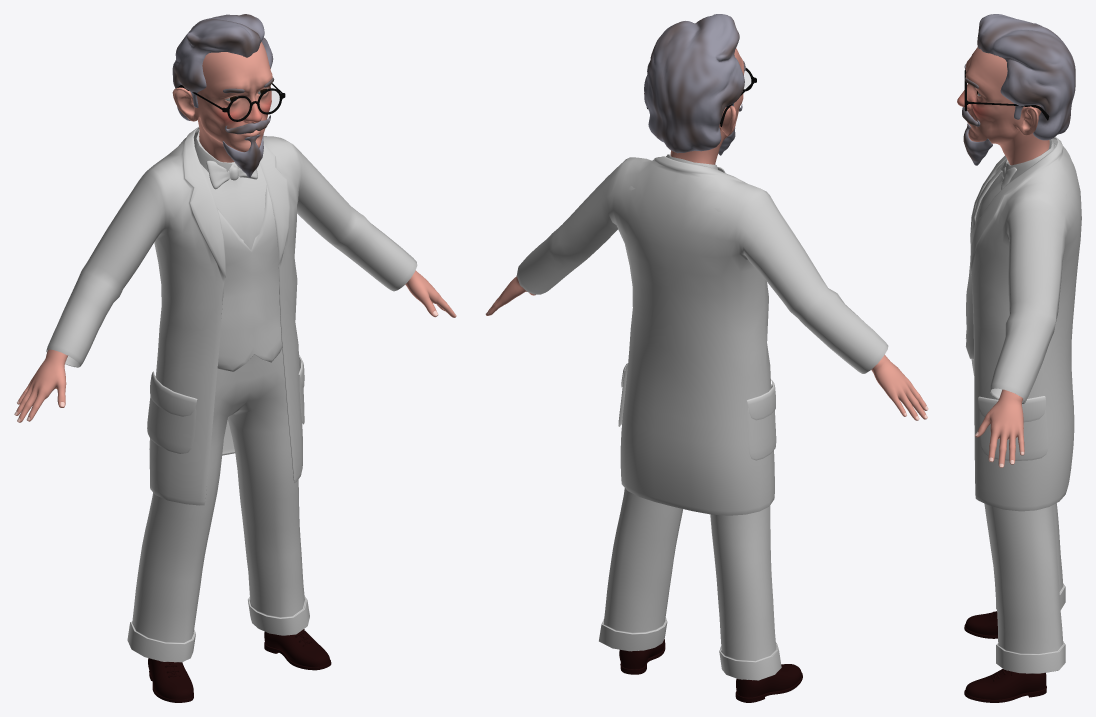
The model's file is professor.gltf.
The picture shows the model from 3 angles, left to right: view 1: azimuth 30°, elevation 25°; view 2: azimuth 150°, elevation 25°; view 3: azimuth 270°, elevation 25°; orthographic projection.
Visible parts, largest first — view 1: Coat_geo, Pant_geo, Body_geo, Waistcoat_geo, Hair_geo, Shoes_geo, Shirt_geo, beard_geo; view 2: Coat_geo, Pant_geo, Hair_geo, Body_geo, Shoes_geo; view 3: Coat_geo, Pant_geo, Body_geo, Hair_geo, Shoes_geo, Waistcoat_geo, Shirt_geo, beard_geo, Specs_frame_geo, Bowtie_geo.
Part boxes in pixels (<box>): Coat_geo: <box>46,127,417,505</box>; Pant_geo: <box>127,348,309,662</box>; Body_geo: <box>14,42,456,422</box>; Waistcoat_geo: <box>217,184,282,371</box>; Hair_geo: <box>172,14,273,120</box>; Shoes_geo: <box>148,629,331,702</box>; Shirt_geo: <box>194,129,266,249</box>; beard_geo: <box>222,115,270,177</box>; Coat_geo: <box>516,156,888,515</box>; Pant_geo: <box>599,488,781,680</box>; Hair_geo: <box>644,14,744,153</box>; Body_geo: <box>485,48,928,420</box>; Shoes_geo: <box>619,639,802,702</box>; Coat_geo: <box>970,137,1081,511</box>; Pant_geo: <box>971,359,1065,673</box>; Body_geo: <box>957,47,1049,467</box>; Hair_geo: <box>977,14,1075,140</box>; Shoes_geo: <box>964,611,1046,702</box>; Waistcoat_geo: <box>965,144,1067,359</box>; Shirt_geo: <box>974,139,1055,226</box>; beard_geo: <box>962,107,992,165</box>; Specs_frame_geo: <box>964,69,1049,120</box>; Bowtie_geo: <box>1001,160,1016,189</box>.
Size of the model in its own units: 0.9841 by 1.4 by 0.2466.
